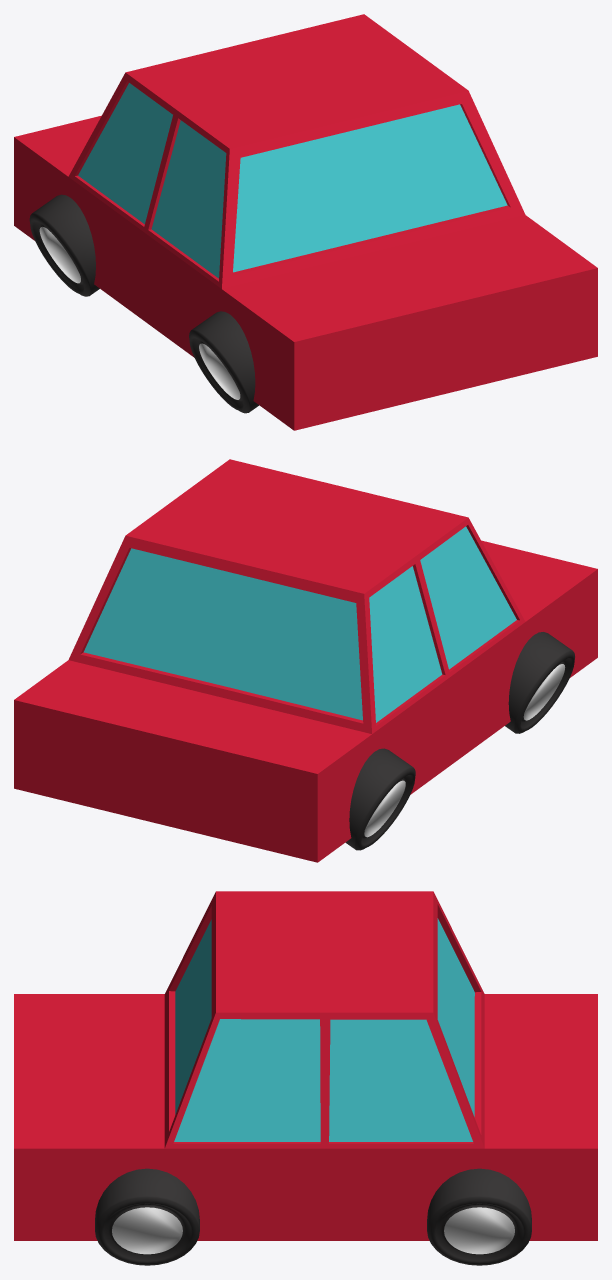
The model's file is AutoJuego.fbx.
3 renders of one model, top to bottom at view 1: azimuth 30°, elevation 25°; view 2: azimuth 150°, elevation 25°; view 3: azimuth 270°, elevation 25°, orthographic. The views are drawn at different scales.
Parts seen in each view (by area): view 1: Cube; view 2: Cube; view 3: Cube.
Boxes of the visible parts, bbox=[...] form: Cube: bbox=[14, 14, 597, 430]; Cube: bbox=[14, 459, 597, 862]; Cube: bbox=[14, 891, 597, 1265].
Size of the model in its own units: 609 by 370 by 818.
Materials: 2 (1 with a texture image).
